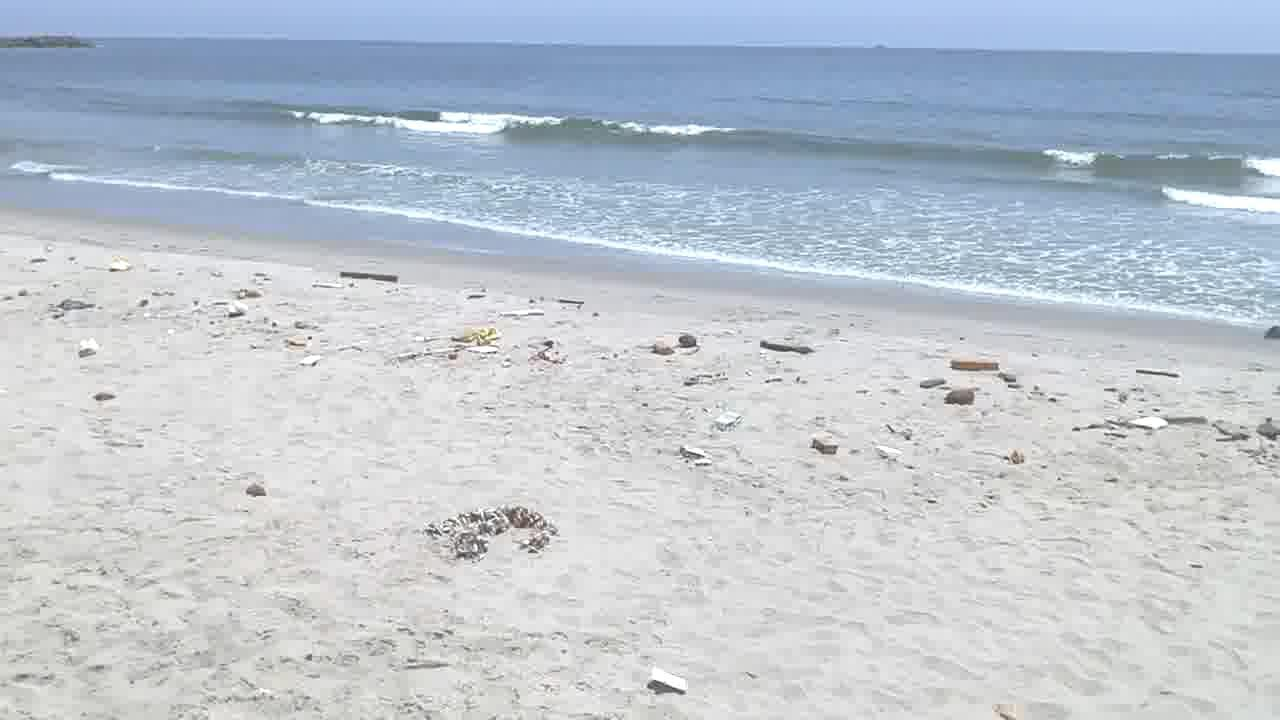obj: (428, 504, 556, 560), (646, 332, 702, 356), (647, 669, 690, 700), (448, 326, 496, 347), (1124, 413, 1173, 432), (948, 354, 1003, 370), (759, 342, 814, 357), (340, 273, 400, 284), (946, 389, 982, 406), (1164, 413, 1214, 424), (810, 438, 840, 455), (713, 411, 743, 428), (687, 449, 713, 467), (1137, 366, 1179, 376), (914, 380, 948, 392), (877, 448, 903, 461), (77, 343, 97, 356), (298, 355, 326, 364), (245, 487, 267, 498)
sand/background: (0, 0, 1279, 380)
